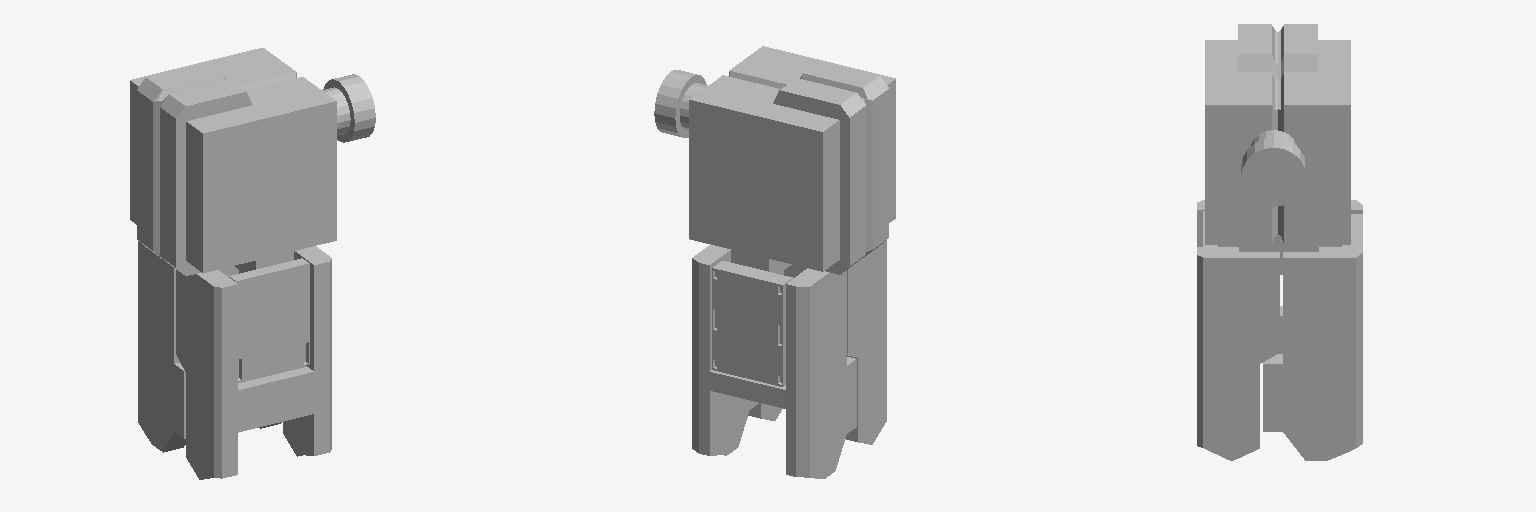
Rendered from urighthand.obj.
3 views of the same model, side by side, from view 1: azimuth 30°, elevation 25°; view 2: azimuth 150°, elevation 25°; view 3: azimuth 270°, elevation 25° (orthographic).
Size of the model in its own units: 2.51 by 4.47 by 1.8.